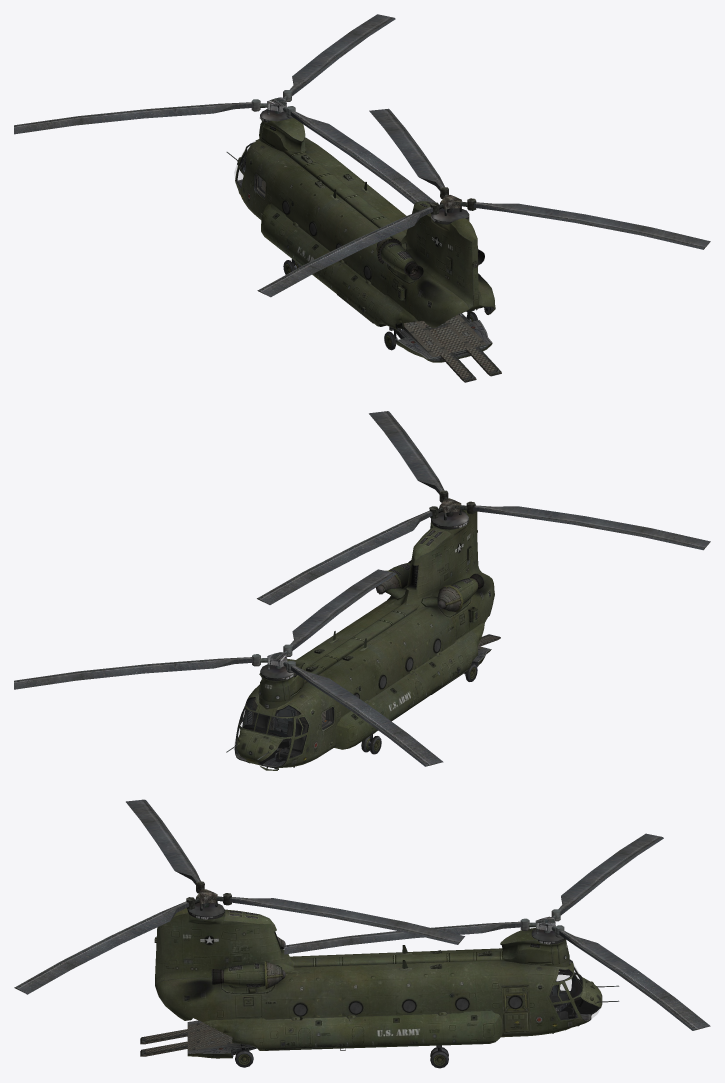
The picture shows the model from 3 angles, top to bottom: view 1: azimuth 30°, elevation 25°; view 2: azimuth 150°, elevation 25°; view 3: azimuth 270°, elevation 25°; orthographic projection.
Parts seen in each view (by area): view 1: A_ch47; view 2: A_ch47; view 3: A_ch47.
Part boxes in pixels (<box>): A_ch47: <box>14,14,710,382</box>; A_ch47: <box>14,411,710,770</box>; A_ch47: <box>14,799,710,1068</box>.
Size of the model in its own units: 44.06 by 15.94 by 64.68.
8 materials, 8 textured.
